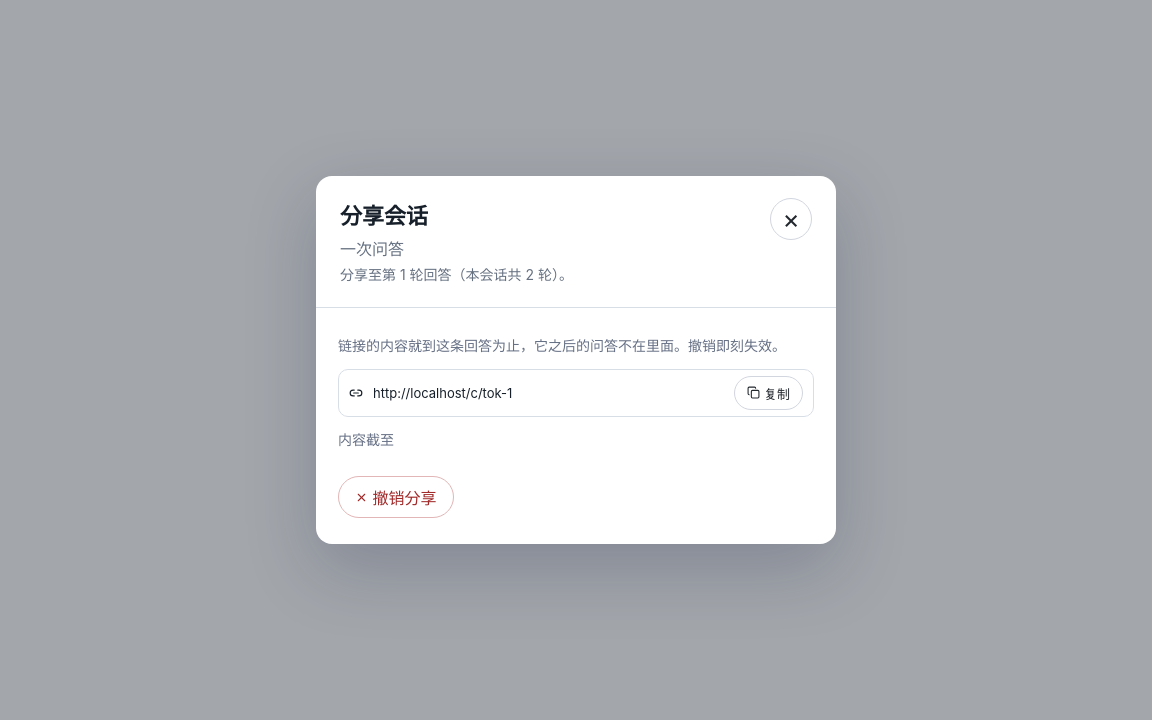
Test: 水位没变时复制照常，只是多了一次复核
What coordinates should you click on to do the following:
click the button "复制"
I would click on:
 (769, 393)
Its box is [734, 376, 803, 410].
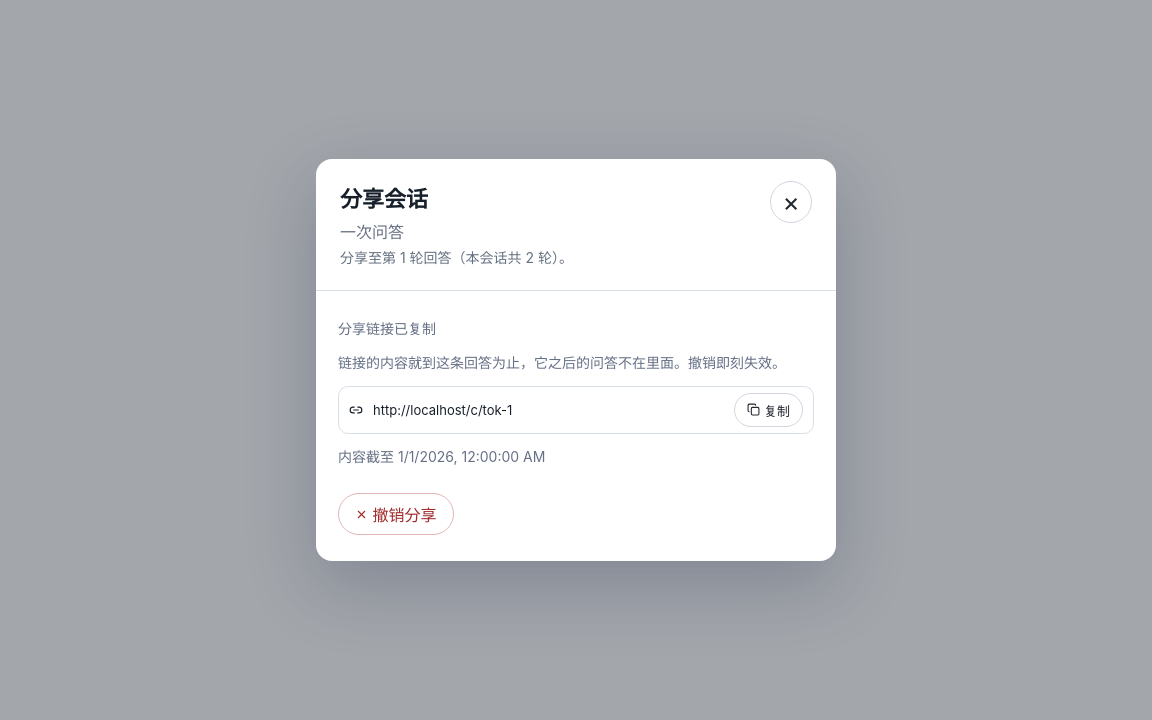
Expected: the text "分享链接已复制" is shown, [338, 320, 436, 337]
